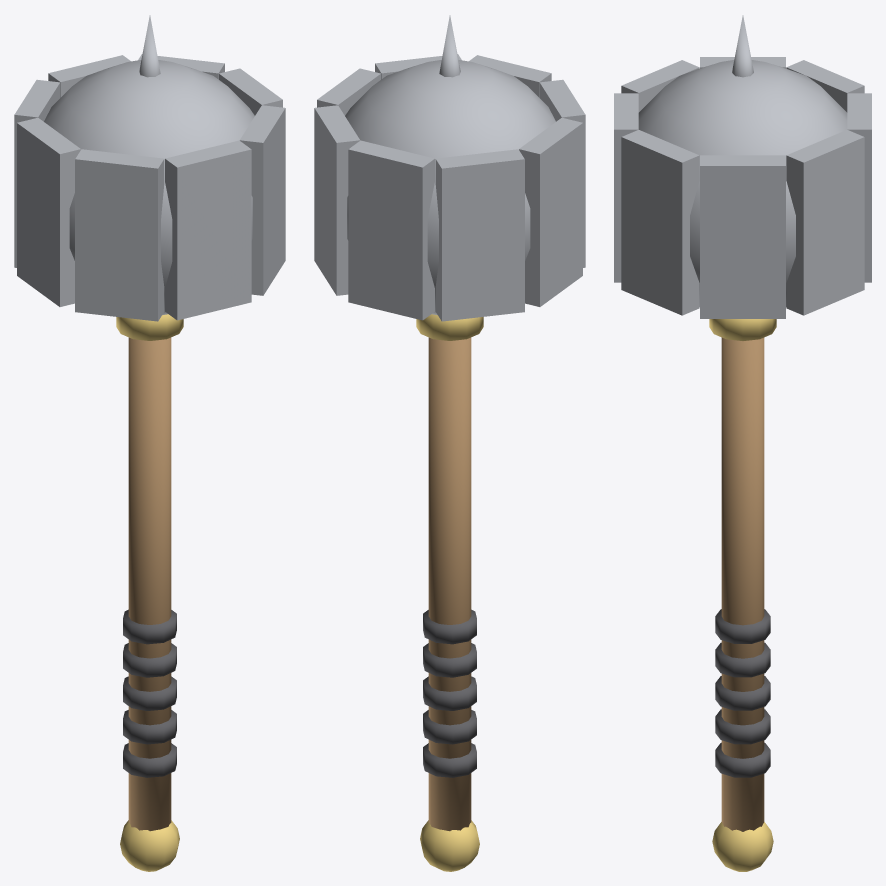
Rendered from Mace.glb.
3 renders of one model, left to right at view 1: azimuth 30°, elevation 25°; view 2: azimuth 150°, elevation 25°; view 3: azimuth 270°, elevation 25°, orthographic.
Visible parts, largest first — view 1: Haft, Head, Flange.005, Flange.006, Flange.004, Flange.007, Butt, Flange.003, Flange, Collar, Grip.001, Grip.003 (+6 smaller); view 2: Haft, Head, Flange.003, Flange.002, Flange.004, Flange.001, Butt, Flange.005, Flange, Collar, Grip.001, Grip.003 (+6 smaller); view 3: Haft, Head, Flange, Flange.001, Flange.007, Butt, Flange.002, Flange.006, Flange.003, Flange.005, Collar, Grip.001 (+5 smaller).
Boxes of the visible parts, box(x1,y1,x2,y2) form: Haft: box(128, 337, 171, 831); Head: box(44, 60, 254, 314); Flange.005: box(75, 149, 164, 321); Flange.006: box(165, 140, 251, 320); Flange.004: box(17, 117, 80, 306); Flange.007: box(239, 105, 285, 295); Butt: box(120, 820, 179, 871); Flange.003: box(14, 79, 60, 267); Flange: box(219, 68, 282, 115); Collar: box(116, 314, 183, 340); Grip.001: box(123, 710, 176, 744); Grip.003: box(123, 643, 176, 677); Haft: box(428, 337, 471, 831); Head: box(345, 60, 555, 314); Flange.003: box(435, 149, 524, 321); Flange.002: box(348, 140, 434, 320); Flange.004: box(519, 117, 582, 306); Flange.001: box(314, 105, 360, 295); Butt: box(420, 820, 479, 871); Flange.005: box(539, 79, 585, 267); Flange: box(317, 68, 380, 115); Collar: box(416, 314, 483, 340); Grip.001: box(423, 710, 476, 744); Grip.003: box(423, 643, 476, 677); Haft: box(721, 337, 764, 831); Head: box(638, 60, 847, 306); Flange: box(700, 155, 785, 318); Flange.001: box(786, 130, 864, 315); Flange.007: box(621, 130, 699, 315); Butt: box(712, 822, 773, 871); Flange.002: box(847, 93, 871, 282); Flange.006: box(614, 93, 638, 282); Flange.003: box(786, 60, 864, 112); Flange.005: box(621, 60, 699, 112); Collar: box(709, 319, 776, 340); Grip.001: box(715, 709, 770, 744).
Bounding box in the file's own units: 0.84 × 3.08 × 0.84.
